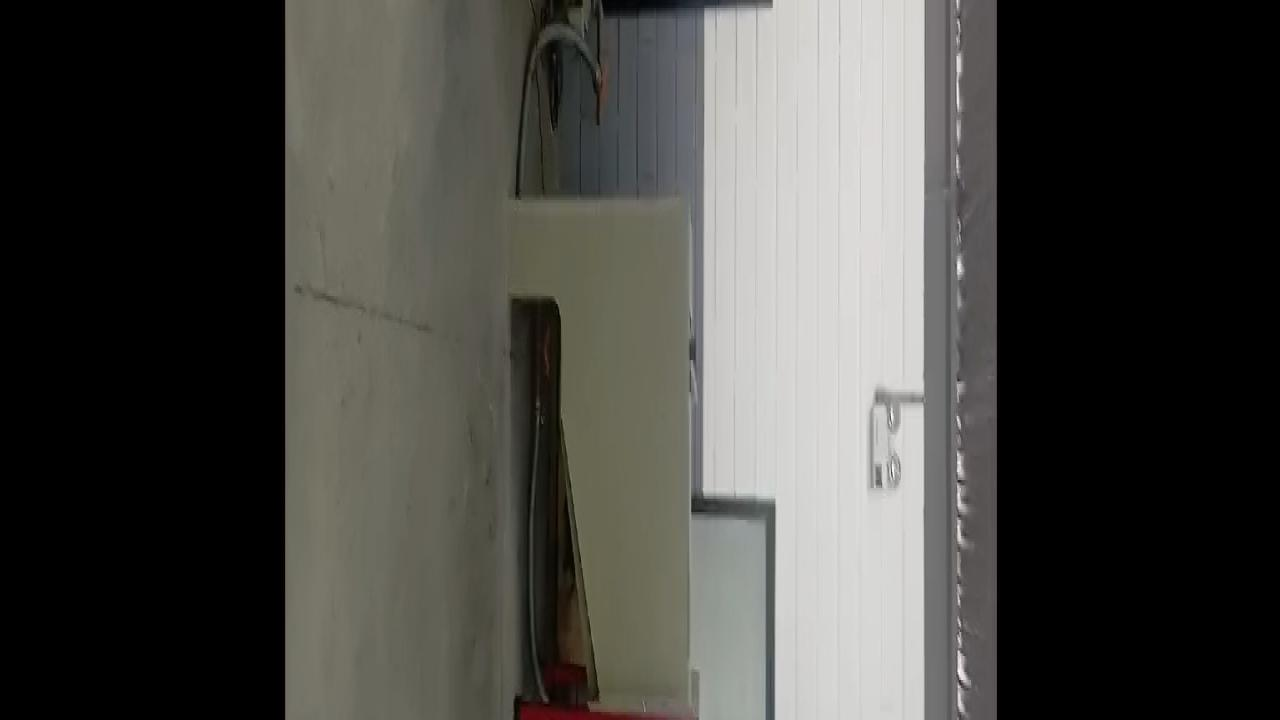Cube: (689, 332, 696, 365)
